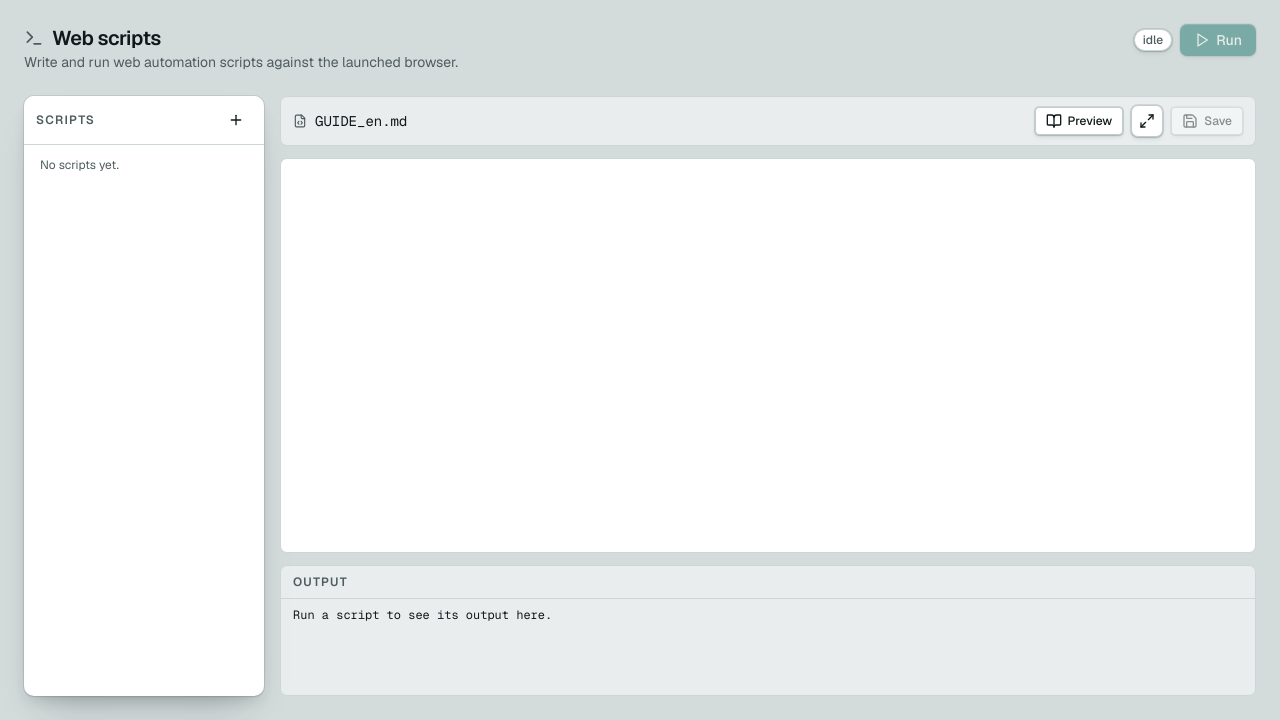
Scenario: CodeEditor — a markdown file can be read as a document › renders a fenced block as a block, not as a chip
Click the button with test id "editor-preview-toggle": (1079,121) x1=1034 y1=107 x2=1123 y2=135
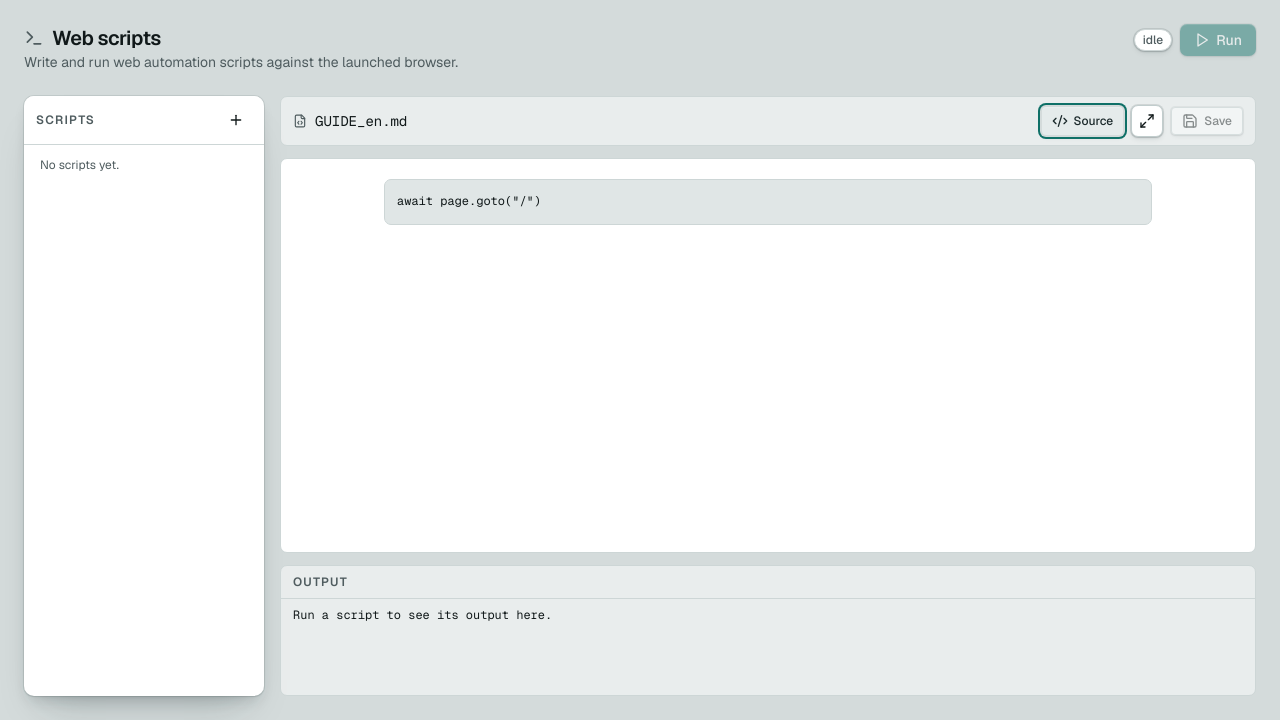
expect the element showing "await page.goto(\"/\")" is shown: met, box x1=384 y1=179 x2=1152 y2=224
expect the element showing "await page.goto(\"/\")" reads "await page.goto(\"/\")": met, box x1=397 y1=193 x2=541 y2=209
